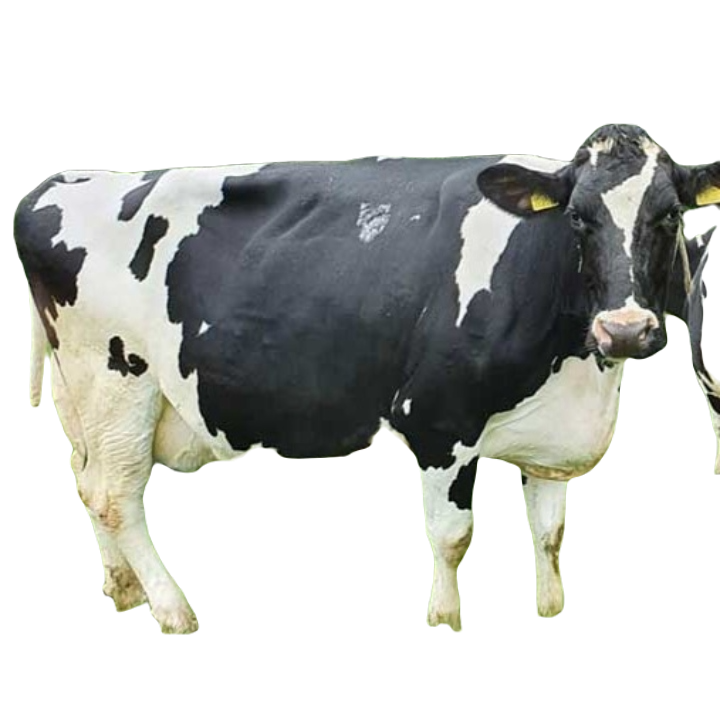Cow: (11, 122, 719, 630)
